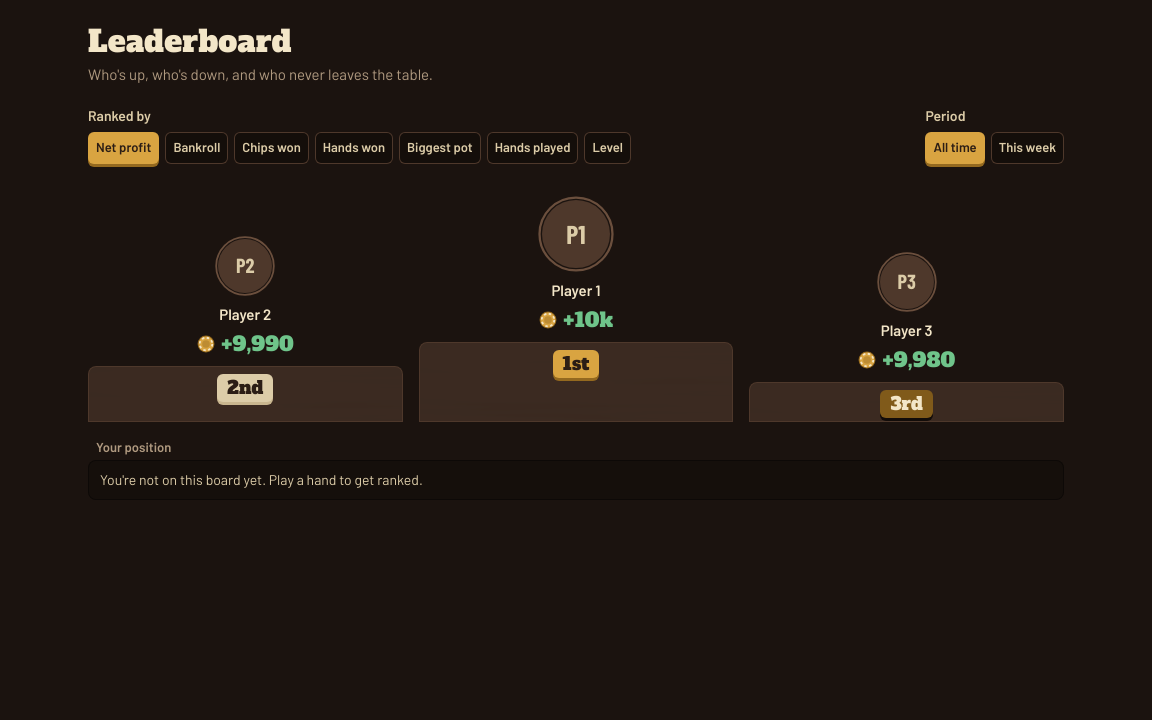
LeaderboardScreen › opens the profile card from a row
The image size is (1152, 720).
What coordinates should you click on to do the following:
click the button with aria-label "1st: Player 1"
I would click on:
 (576, 265)
Its box is left=419, top=188, right=733, bottom=342.
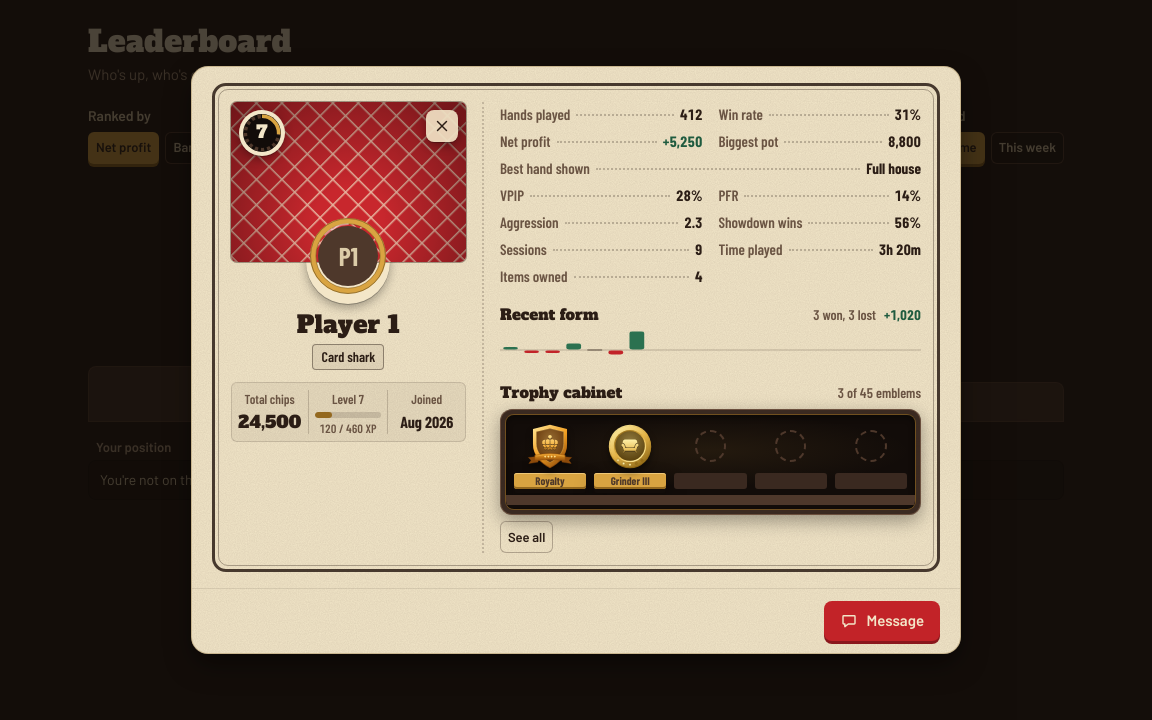
Now the dialog is shown, box left=192, top=67, right=960, bottom=653
